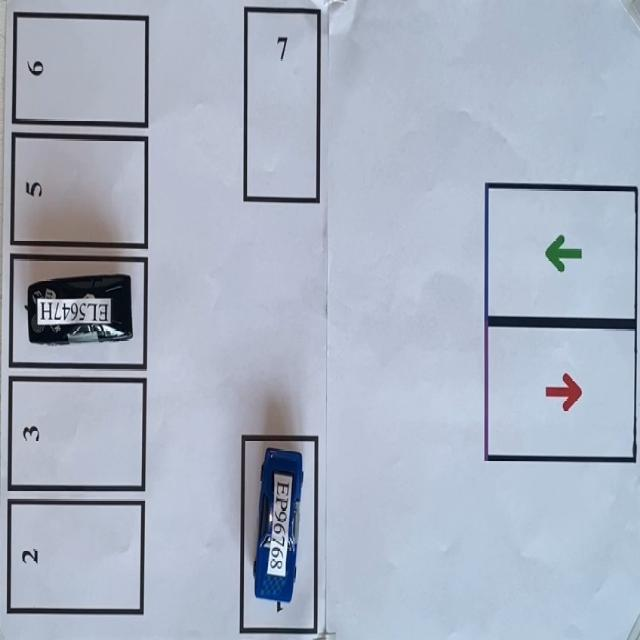car: (254, 448, 303, 610), (26, 274, 133, 343)
